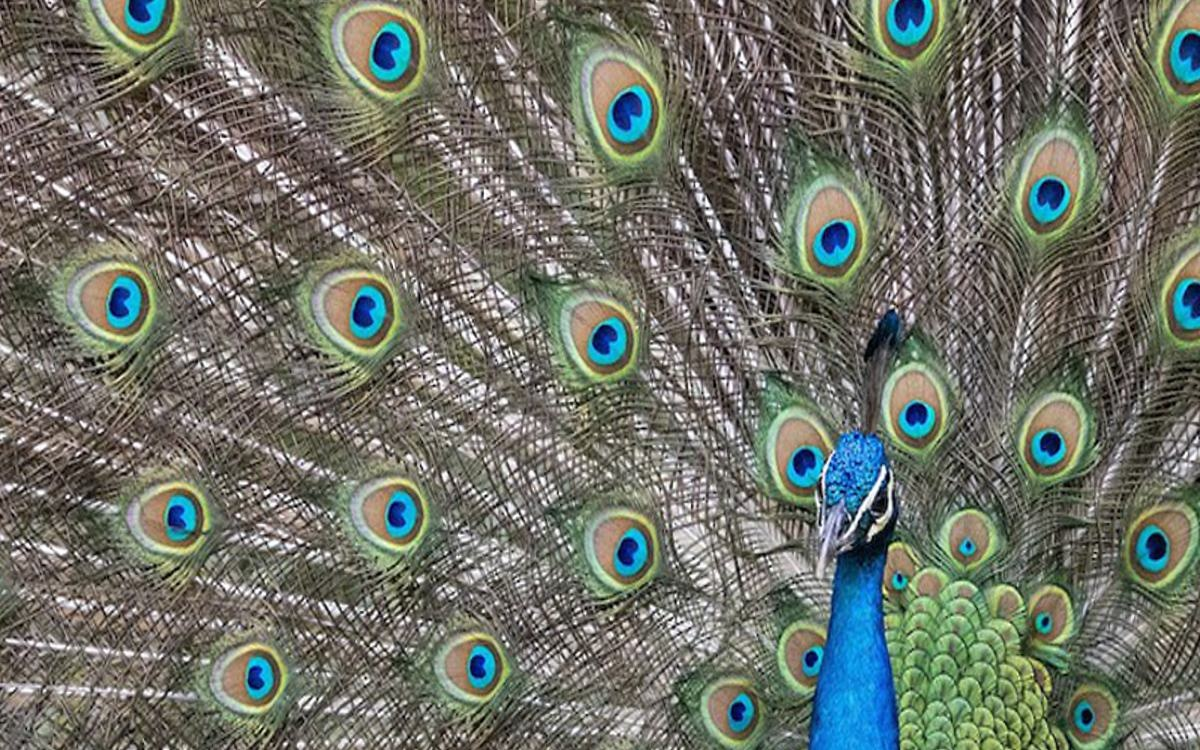peacock: (164, 82, 1189, 750)
